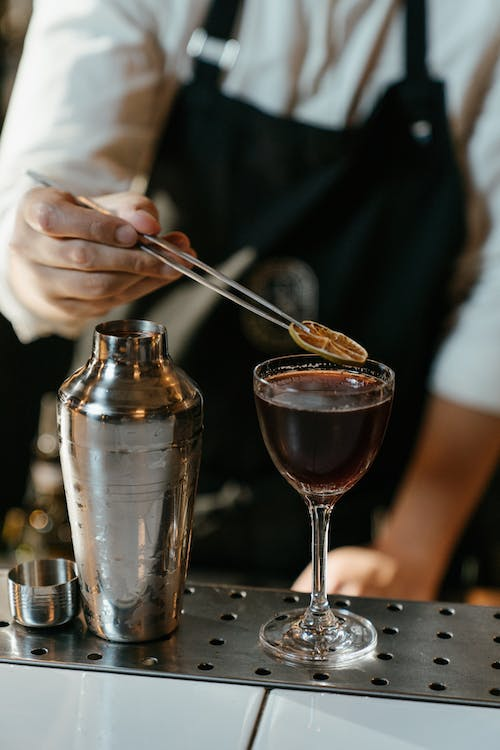alcohol: (53, 316, 206, 647), (253, 352, 397, 666)
